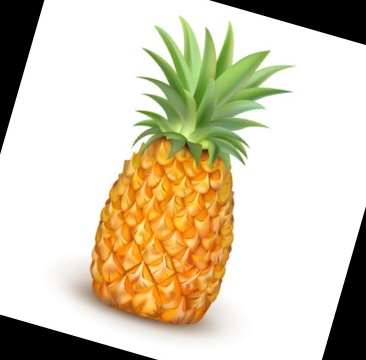Pineapple: (88, 19, 289, 331)
